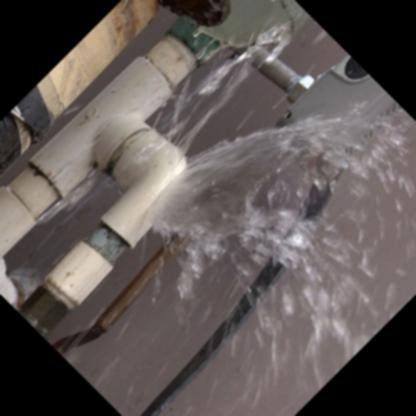burst: (137, 160, 220, 251)
